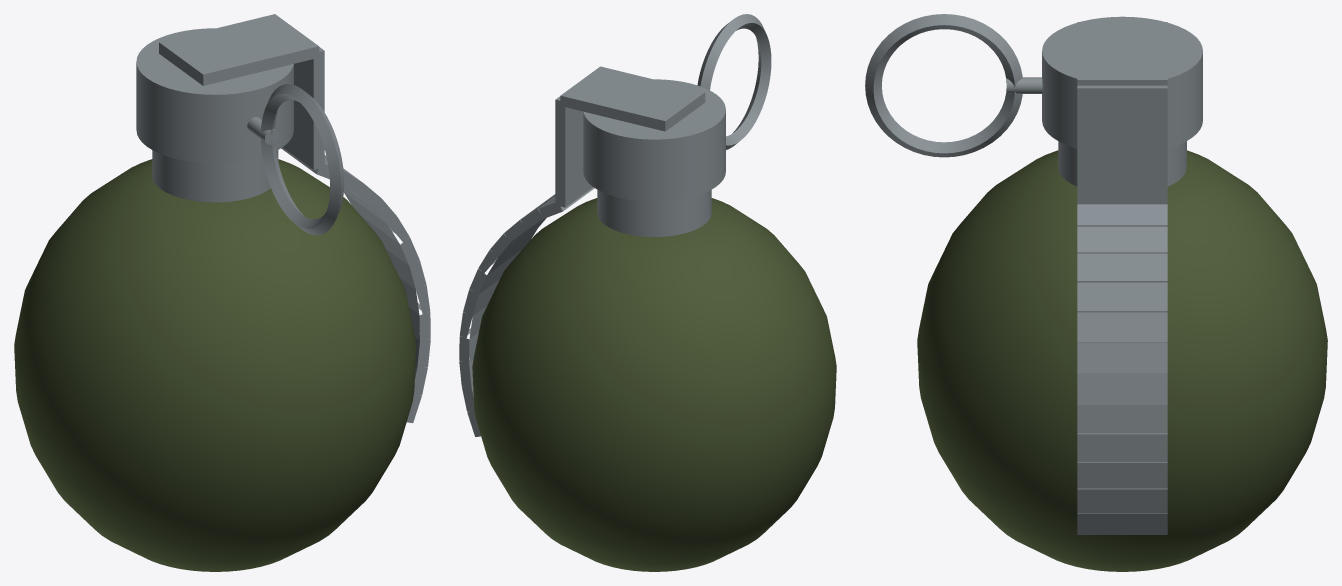
File: frag_grenade.glb
3 views of the same model, side by side, from view 1: azimuth 30°, elevation 25°; view 2: azimuth 150°, elevation 25°; view 3: azimuth 270°, elevation 25° (orthographic). The views are drawn at different scales.
Visible parts, largest first — view 1: grenade:grenade; view 2: grenade:grenade; view 3: grenade:grenade.
Part boxes in pixels (x1,y1,x2,y2): grenade:grenade: (14, 14, 430, 571); grenade:grenade: (459, 14, 836, 571); grenade:grenade: (865, 14, 1327, 571).
Size of the model in its own units: 0.0674 by 0.0926 by 0.0719.
